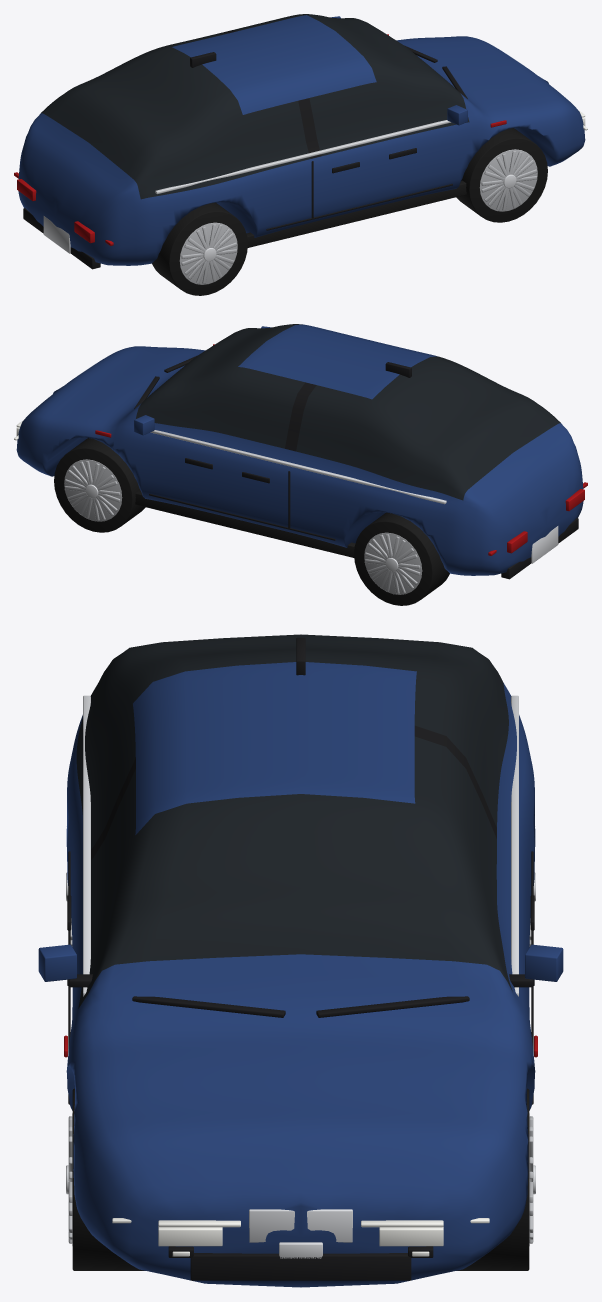
File: m_car_ev_2.fbx
3 renders of one model, top to bottom at view 1: azimuth 30°, elevation 25°; view 2: azimuth 150°, elevation 25°; view 3: azimuth 270°, elevation 25°, orthographic. The views are drawn at different scales.
Visible parts, largest first — view 1: m_car_ev_2; view 2: m_car_ev_2; view 3: m_car_ev_2.
Part boxes in pixels (x1,y1,x2,y2): m_car_ev_2: (14, 14, 587, 295); m_car_ev_2: (14, 324, 587, 605); m_car_ev_2: (38, 634, 563, 1287).
Size of the model in its own units: 1435 by 512 by 656.
